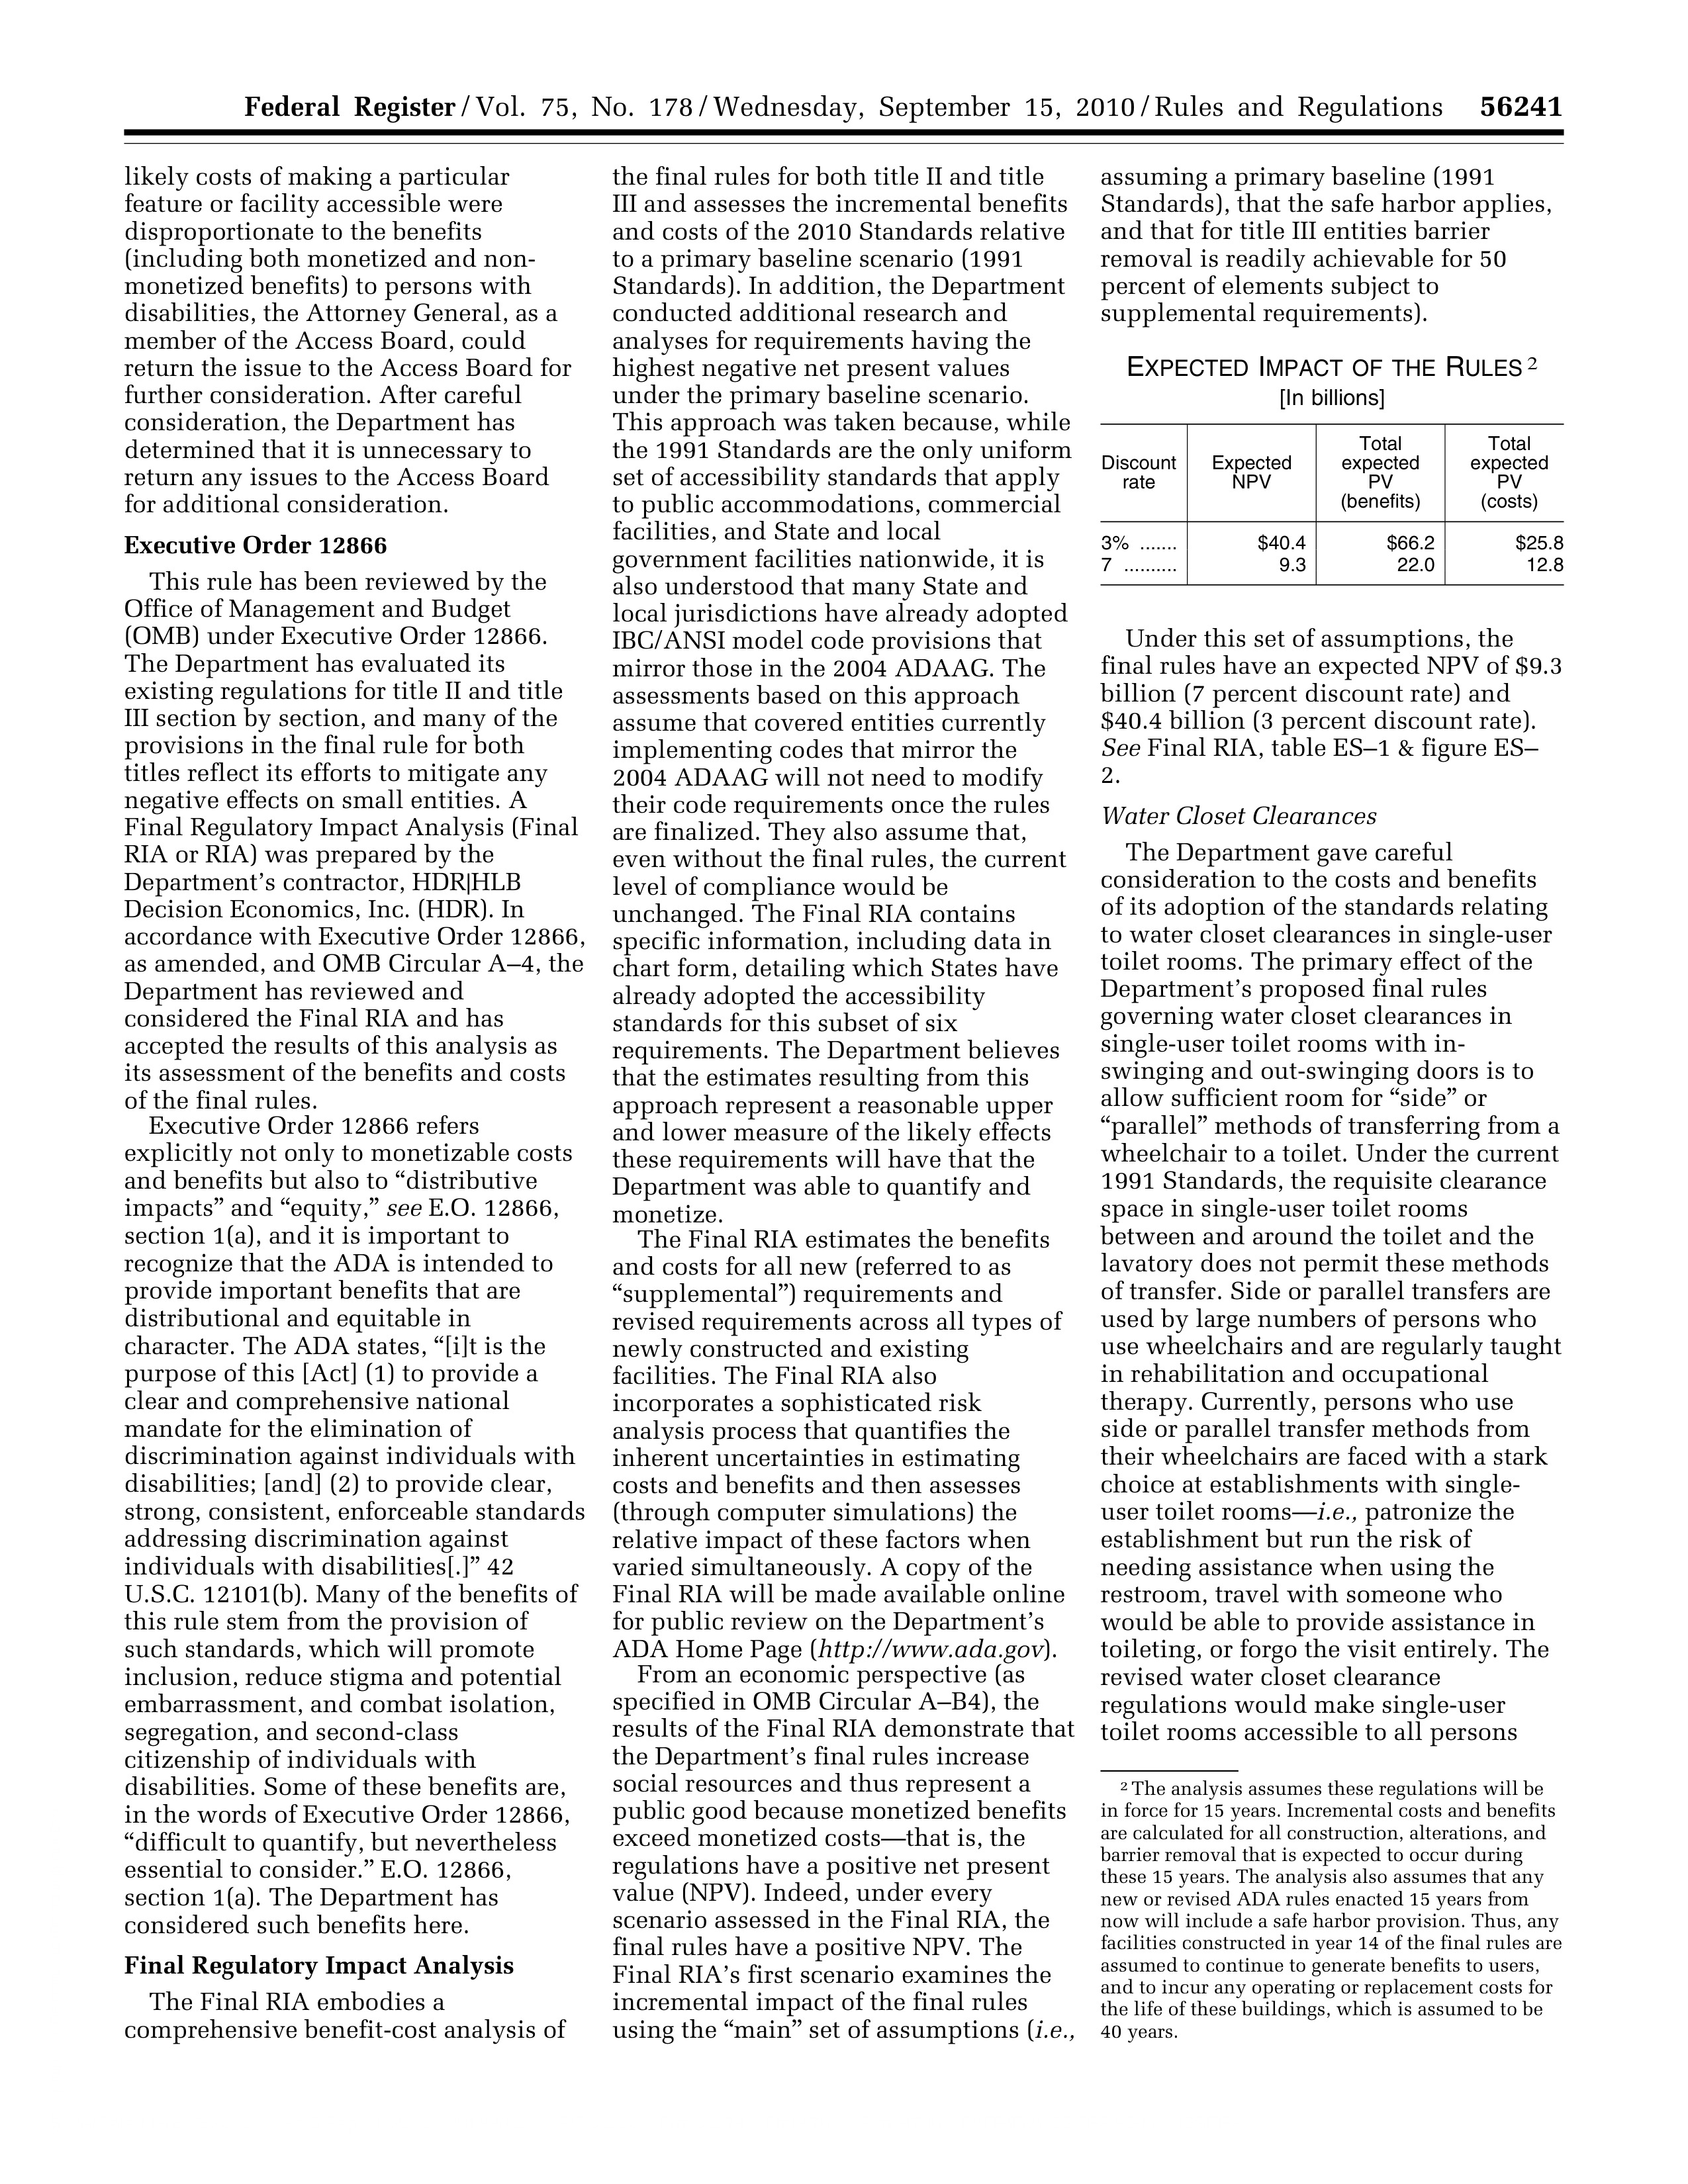table: (1101, 434, 1564, 574)
